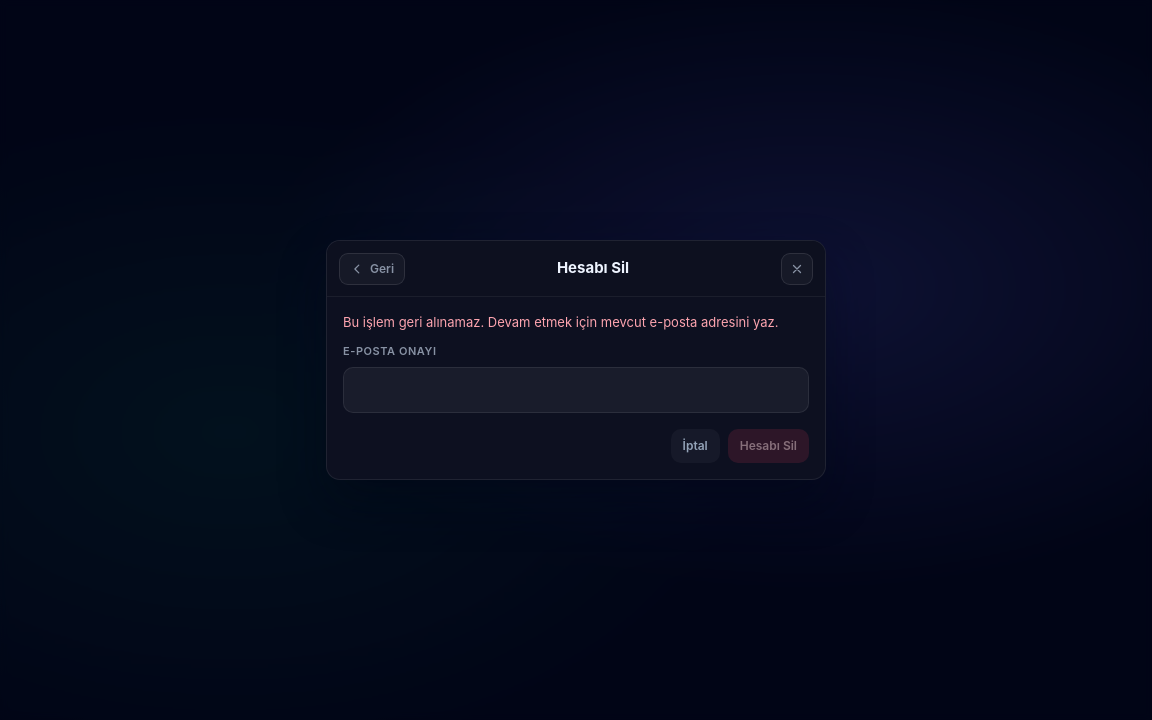
Test case: DeleteAccountModal › blocks an invalid email confirmation
Type "invalid-email" into the field labelled "E-POSTA ONAYI" at (576, 390), box 343,367 -> 809,413
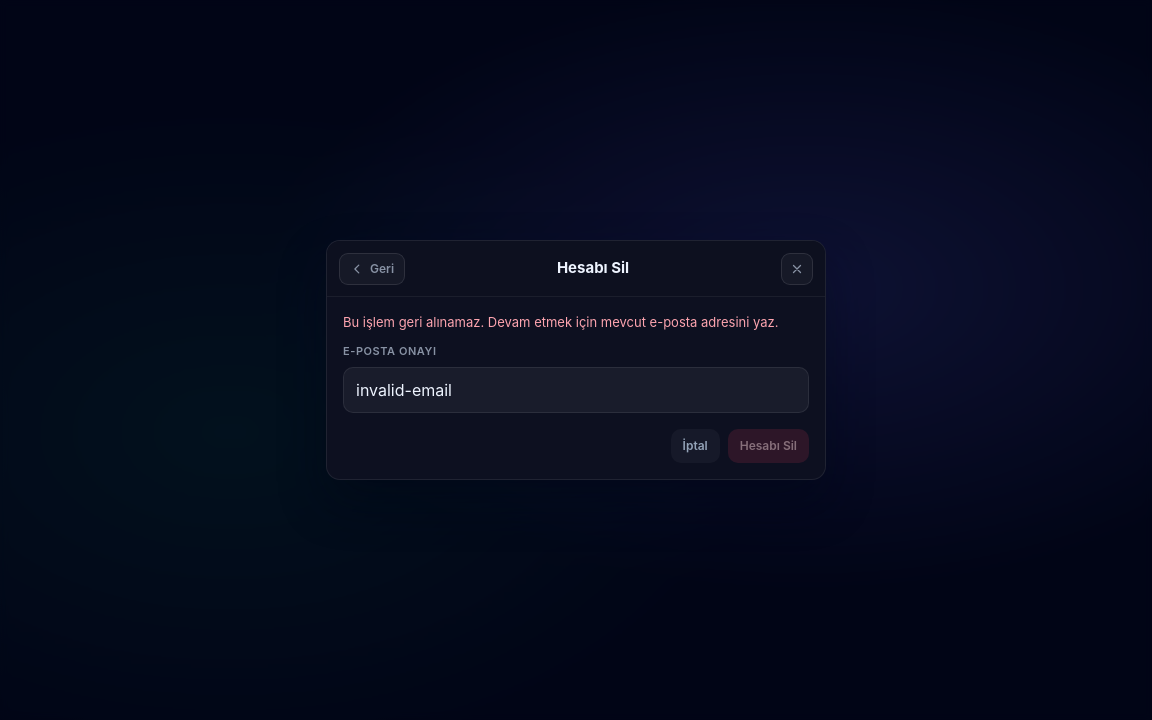
Leave the field labelled "E-POSTA ONAYI", box 343,367 -> 809,413
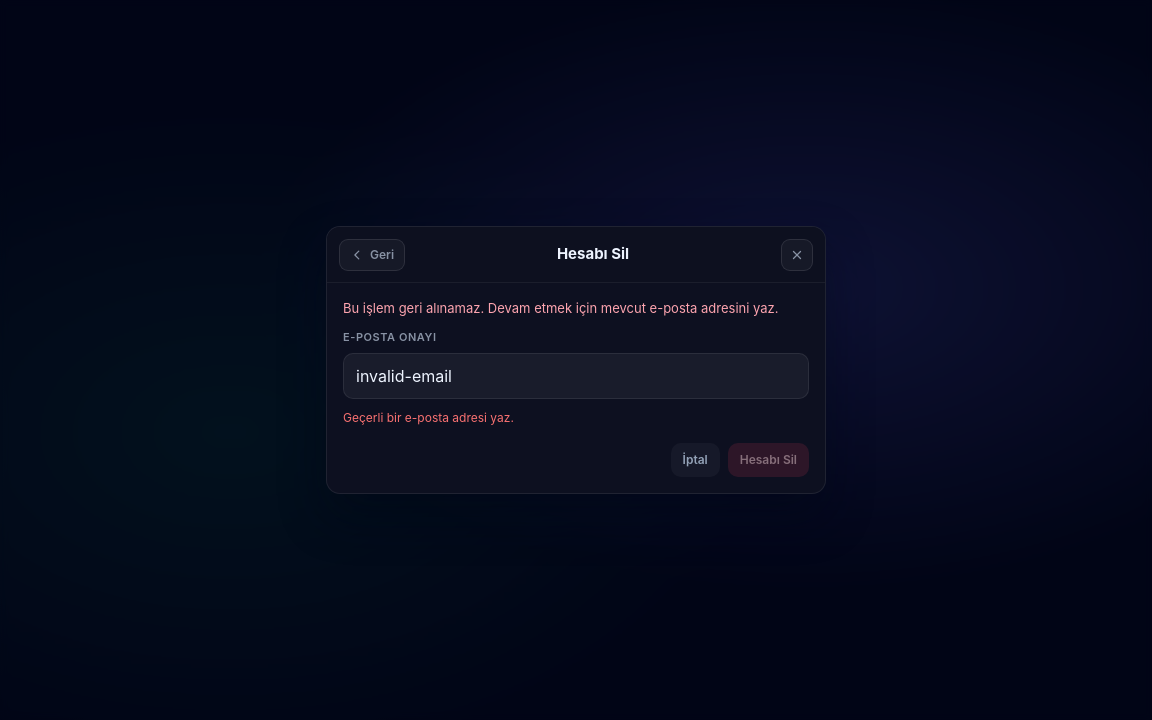
Expected: the button with class "danger" is disabled, 728,443 -> 809,477
Result: the text "Geçerli bir e-posta adresi yaz." is shown at 343,410 -> 514,425
